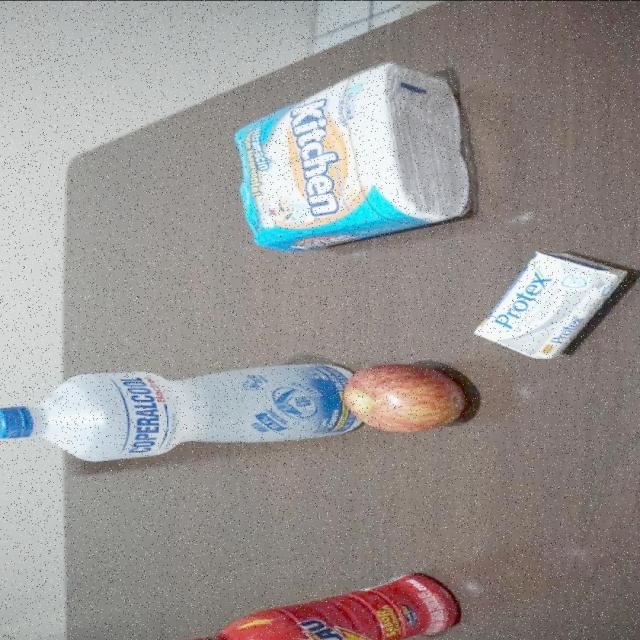AlcoholBottle: (0, 360, 359, 461)
Apple: (339, 359, 465, 445)
ChocolateMilk: (153, 573, 460, 640)
Napkin: (229, 66, 477, 256)
Soap: (476, 250, 630, 362)
